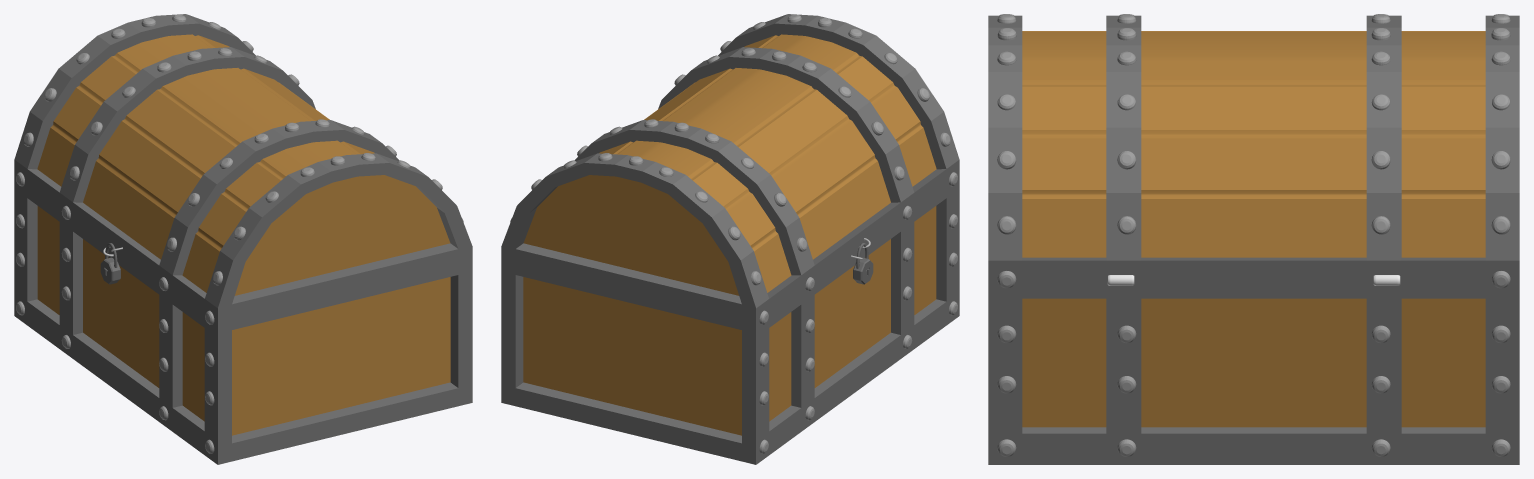
The model's file is chest.glb.
3 views of the same model, side by side, from view 1: azimuth 30°, elevation 25°; view 2: azimuth 150°, elevation 25°; view 3: azimuth 270°, elevation 25° (orthographic). The views are drawn at different scales.
Visible parts, largest first — view 1: wooden part of the chest, iron part of the chest, rivets, lock; view 2: wooden part of the chest, iron part of the chest, rivets, lock; view 3: wooden part of the chest, iron part of the chest, rivets, loops.
Part boxes in pixels (x1,y1,x2,y2): wooden part of the chest: (37,34,450,435); iron part of the chest: (14,14,472,464); rivets: (16,14,463,453); lock: (100,243,120,284); wooden part of the chest: (523,34,936,435); iron part of the chest: (501,14,959,464); rivets: (510,14,957,453); lock: (853,243,873,284); wooden part of the chest: (1022,31,1485,427); iron part of the chest: (988,15,1519,464); rivets: (997,14,1510,456); loops: (1107,275,1400,285).
Size of the model in its own units: 0.8096 by 0.78 by 1.06.
